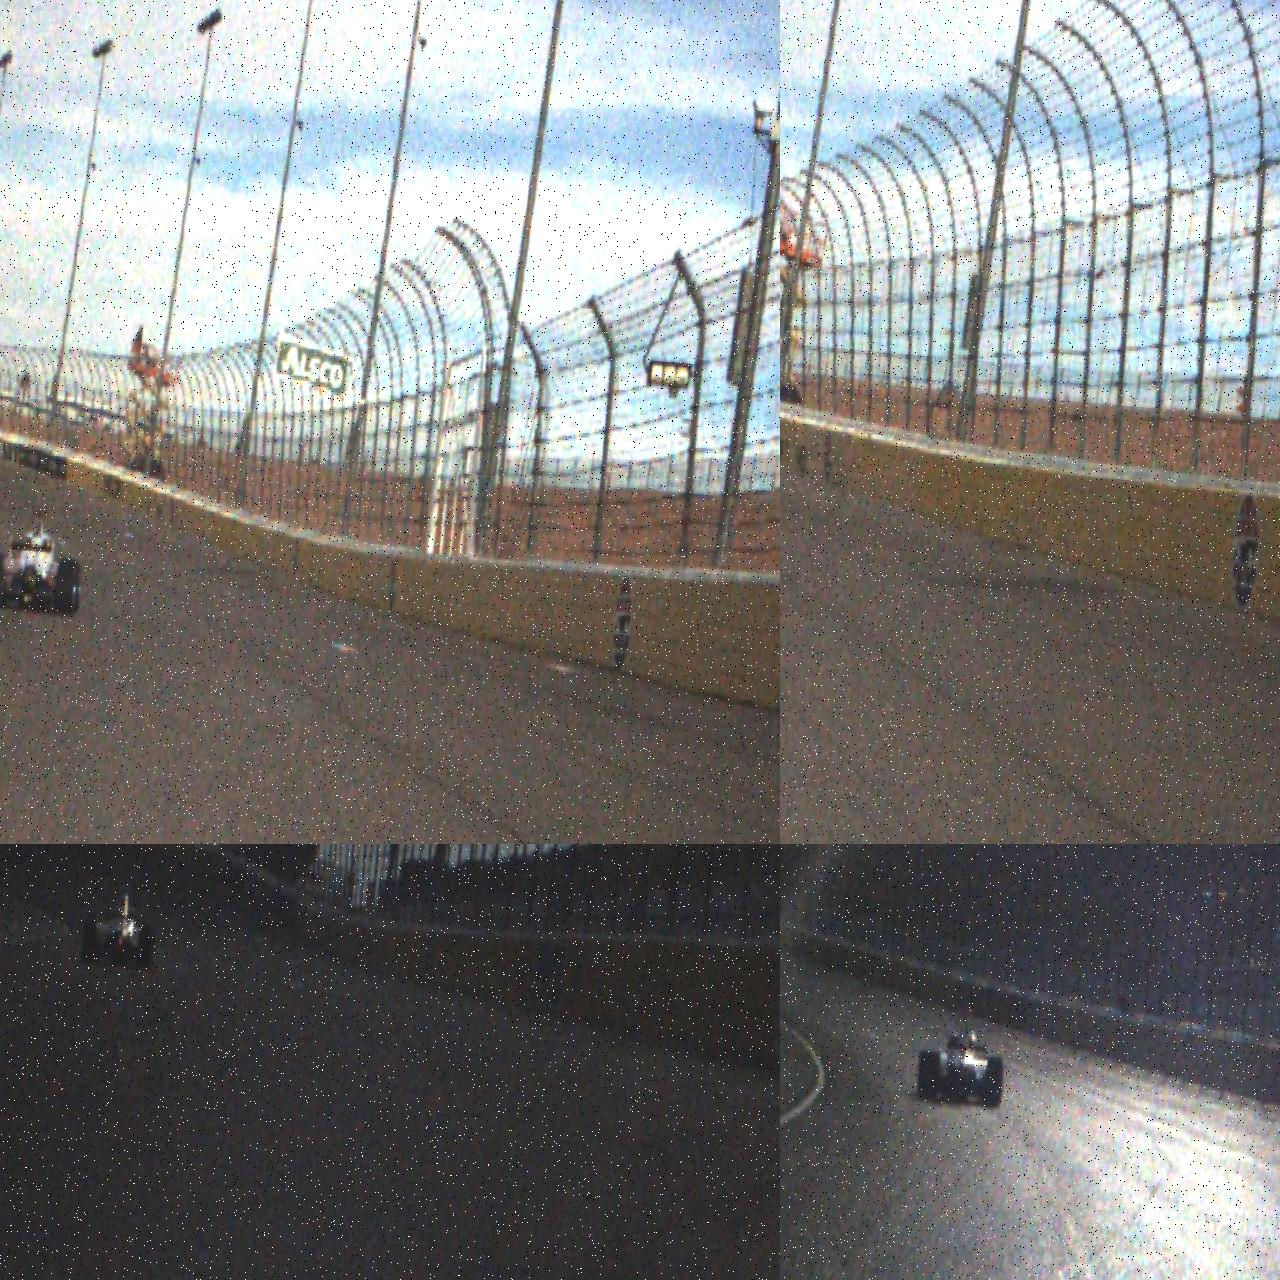AV: (0, 503, 88, 617), (915, 1006, 1009, 1110), (81, 877, 159, 971)
Wheel: (54, 558, 77, 617), (915, 1050, 940, 1103), (983, 1056, 1005, 1109), (136, 924, 156, 969), (81, 919, 98, 964), (68, 563, 83, 613), (0, 551, 5, 610)
